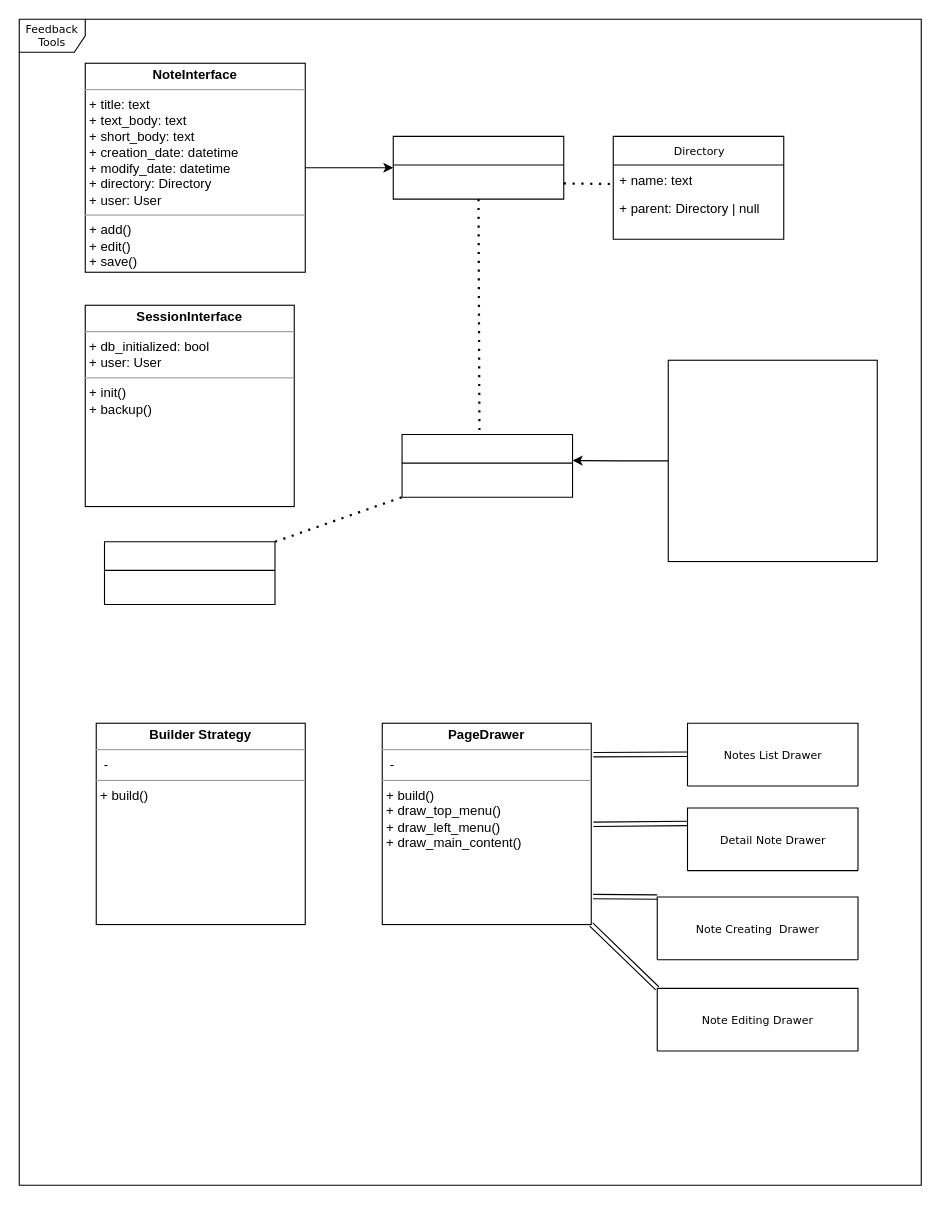
The diagram is 941 pixels wide and 1205 high, and some of its shapes have lost their labels. The centre of each missing label's shape, as x and y in pixels:
"Note" goes at pixel 478 167.
"Session" goes at pixel 189 572.
"User" goes at pixel 487 465.
"UserInterface + name: text + photo: file + register() + authorize() + logout()" goes at pixel 772 460.
